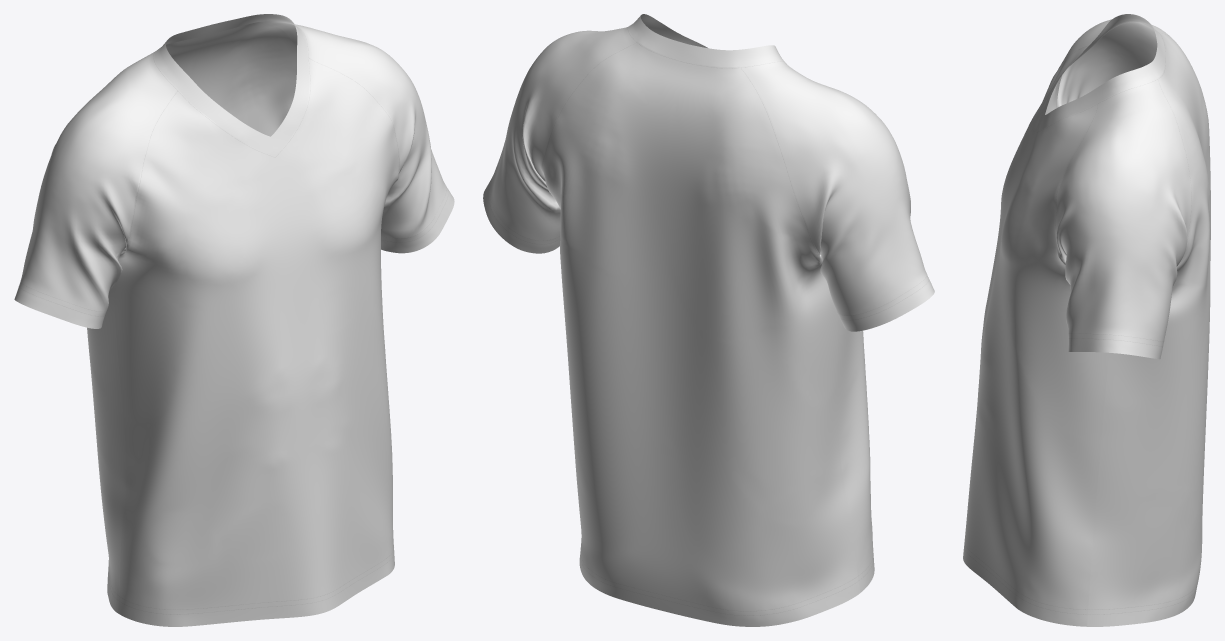
File: v_neck_reglan_01.glb
3 renders of one model, left to right at view 1: azimuth 30°, elevation 25°; view 2: azimuth 150°, elevation 25°; view 3: azimuth 270°, elevation 25°, orthographic. The views are drawn at different scales.
Parts seen in each view (by area): view 1: V neck_reglan; view 2: V neck_reglan; view 3: V neck_reglan.
Boxes of the visible parts, x1,y1,x2,y2 form: V neck_reglan: (14,14,454,626); V neck_reglan: (483,14,934,626); V neck_reglan: (963,14,1210,626).
Size of the model in its own units: 0.5908 by 0.7081 by 0.2992.
Materials: 9 (3 with a texture image).
